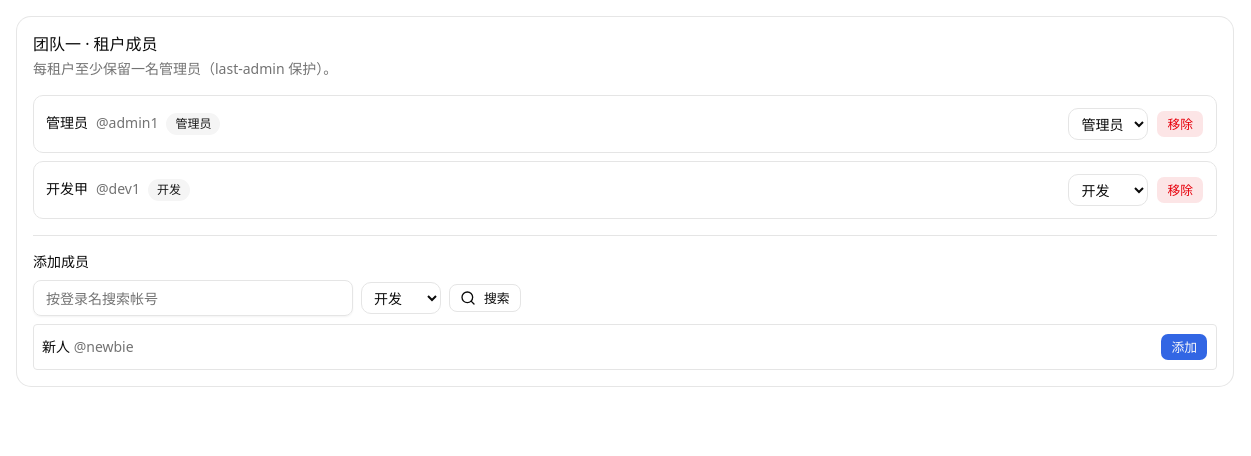
Test: TenantMembersPage（仅 admin / last-admin 提示） › last-admin 降级被拒绝时展示明确提示
Select "开发" in the dropdown named "变更 admin1 的角色". click: (1108, 124)
box: [1068,108,1148,140]
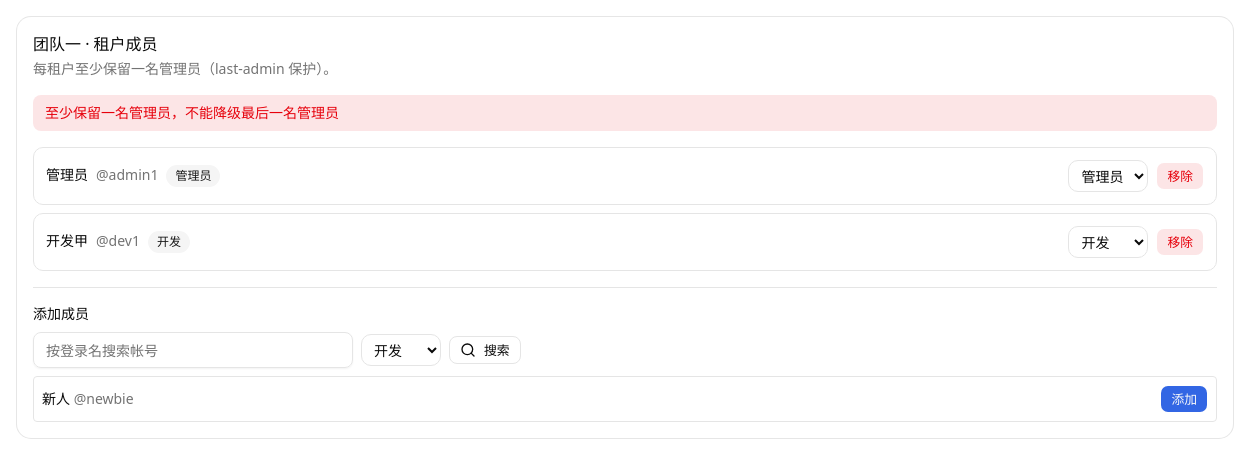
Check: the message reads "至少保留一名管理员，不能降级最后一名管理员", box [45,103,339,122]
